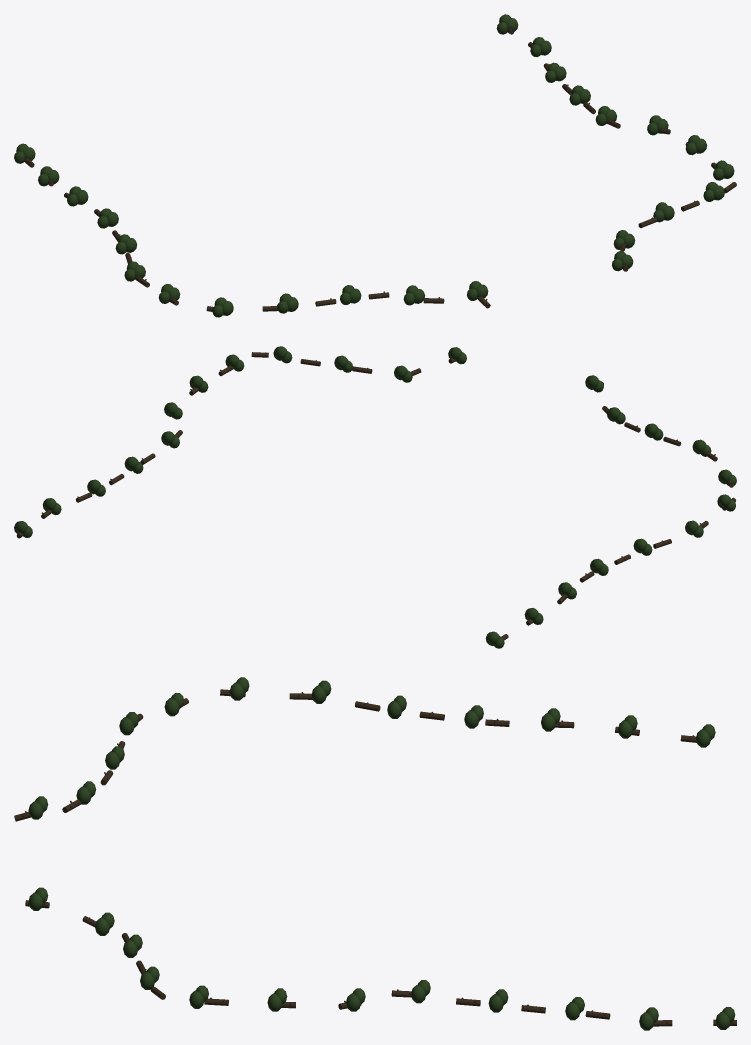
Rendered from level_camp_boundary_logfall_grounded.glb.
3 views of the same model, one above another, from view 1: azimuth 30°, elevation 25°; view 2: azimuth 150°, elevation 25°; view 3: azimuth 270°, elevation 25° (orthographic). The views are drawn at different scales.
Parts seen in each view (by area): view 1: level_camp_boundary_logfall_grounded; view 2: level_camp_boundary_logfall_grounded; view 3: level_camp_boundary_logfall_grounded.
Part boxes in pixels (x1,y1,x2,y2): level_camp_boundary_logfall_grounded: (14, 14, 736, 317); level_camp_boundary_logfall_grounded: (14, 346, 736, 648); level_camp_boundary_logfall_grounded: (14, 677, 736, 1030).
Bounding box in the file's own units: 61.57 × 4.43 × 57.39.
2 materials, 2 textured.
